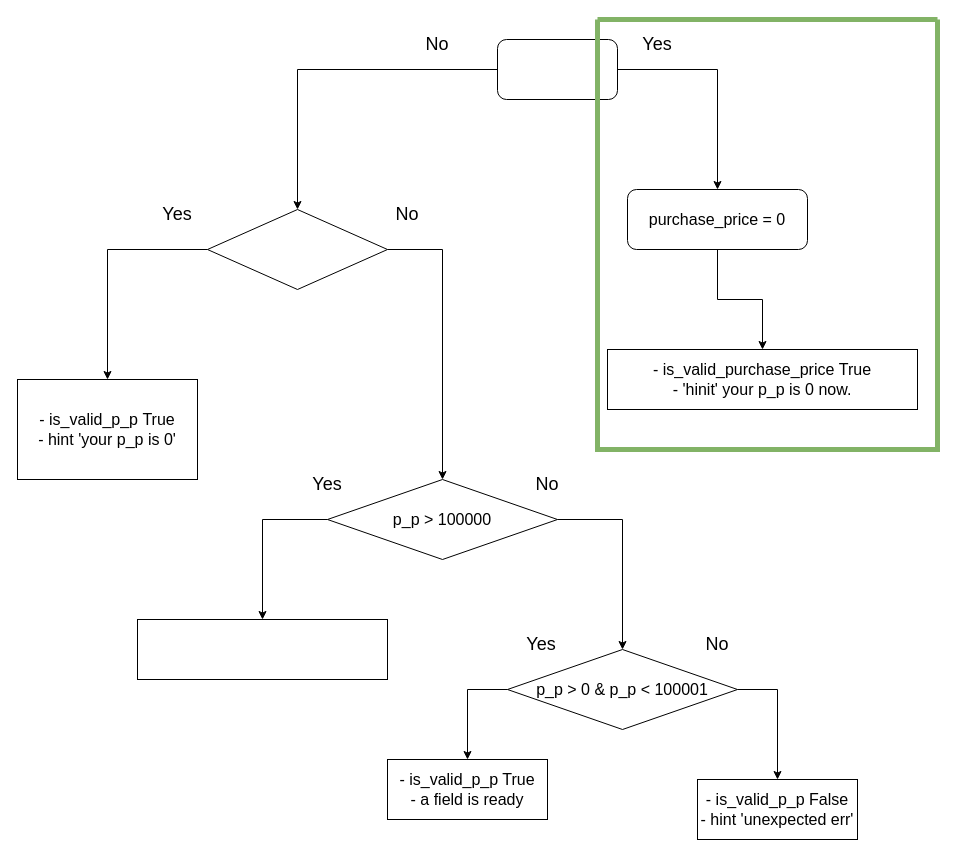
Some shapes in this 957 by 857 pixel diagram are drawn without their labels. The shapes that lost their labels are listed below. From the top down, each one's centre as x and y in pixels, then its label:
At pixel 557 69: "is_empty".
At pixel 297 249: "p_price = 0".
At pixel 262 649: "- is_valid_p_p False - Hint ' max price is 100000".
